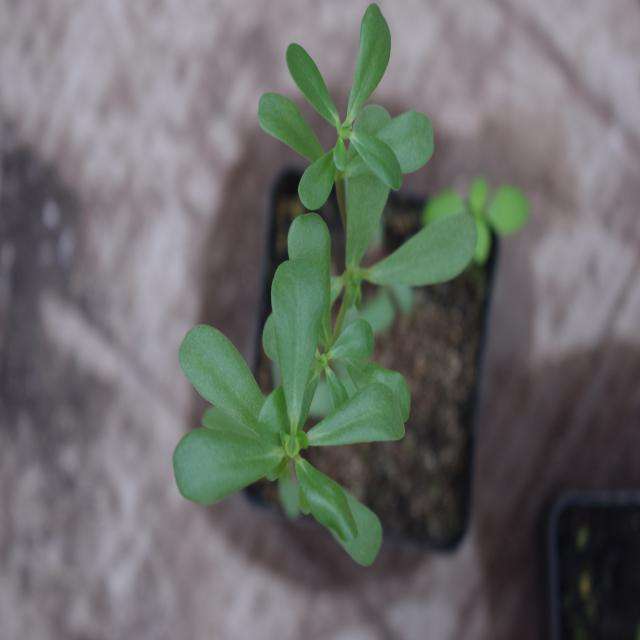purslane: (177, 0, 470, 578)
